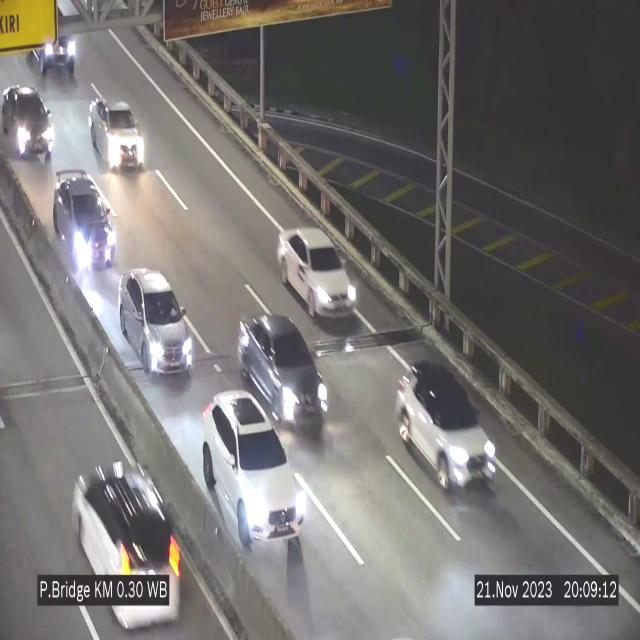Car: (76, 444, 190, 636), (202, 392, 305, 554), (396, 360, 498, 492), (237, 315, 327, 432), (118, 269, 194, 376), (55, 166, 116, 287), (277, 228, 357, 320), (84, 90, 146, 175), (0, 78, 59, 159), (25, 16, 81, 81)
